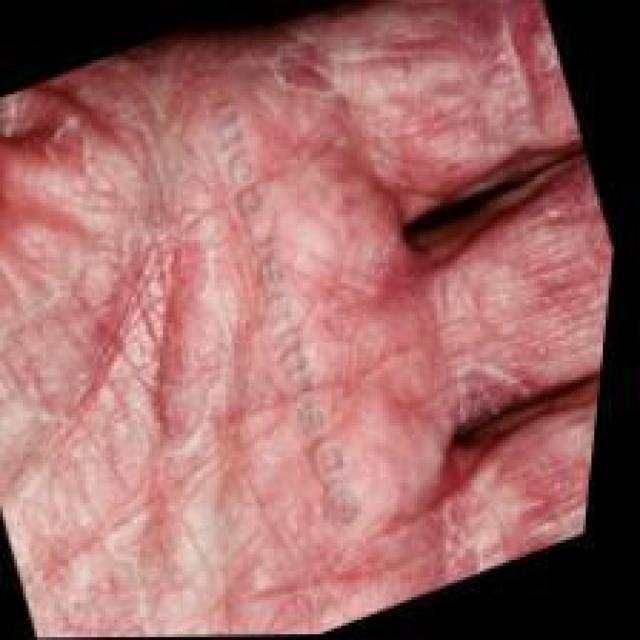Eczema: (8, 0, 574, 557)
